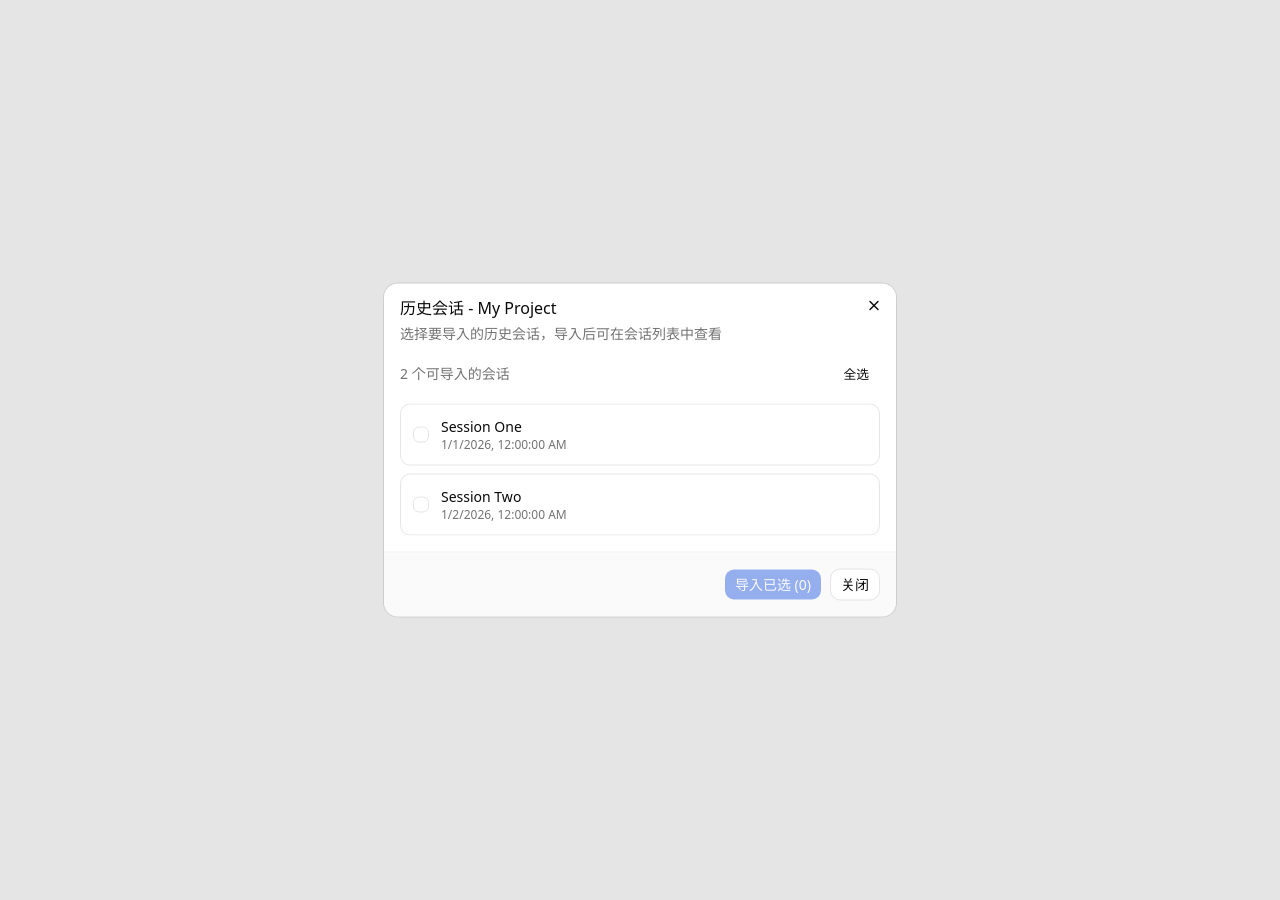
Scenario: HistorySessionDialog › should show progress text during import
Click the button "全选" at [856, 374], box [832,360,880,388]
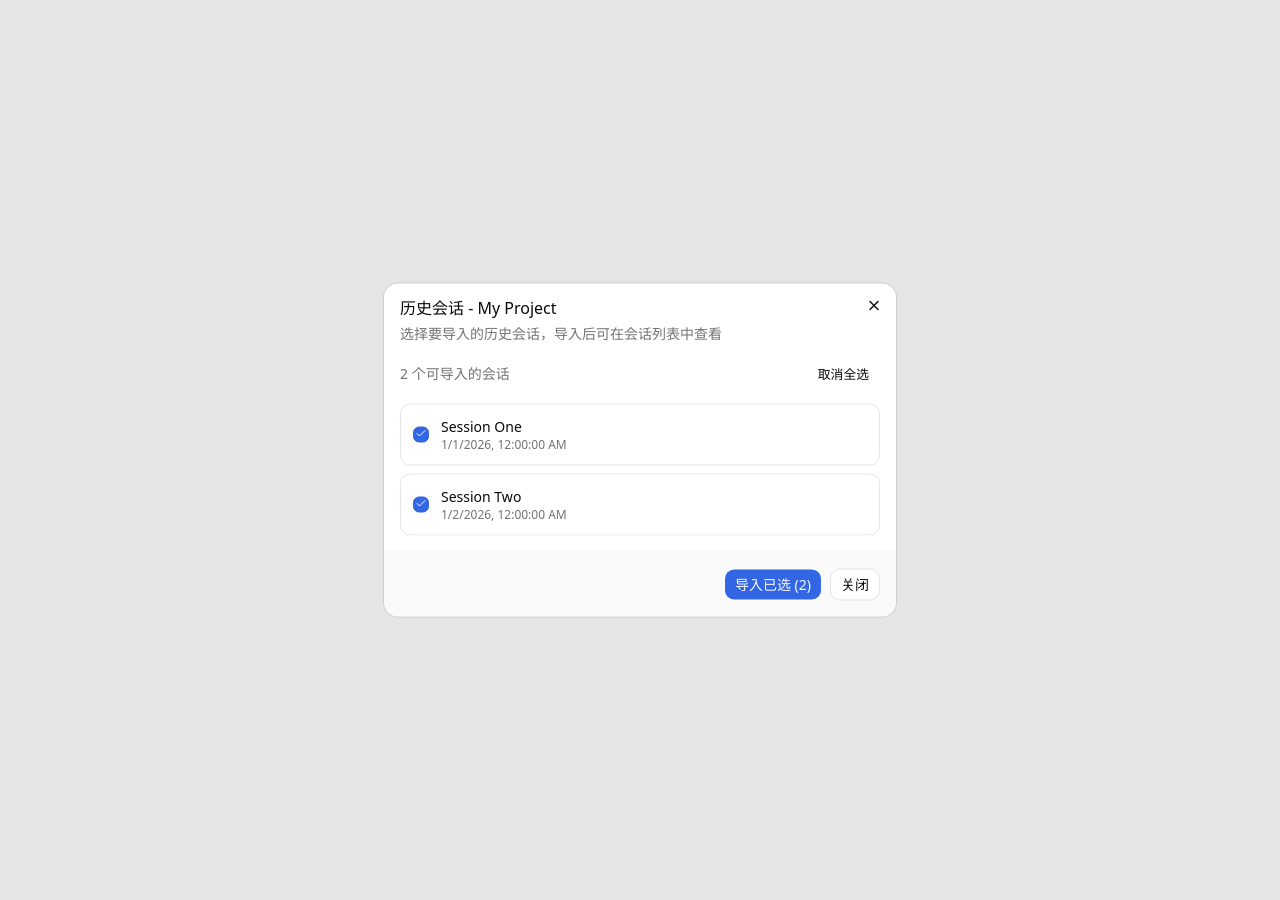
Click the button "导入已选 (2)" at [773, 584], box [724,568,822,600]
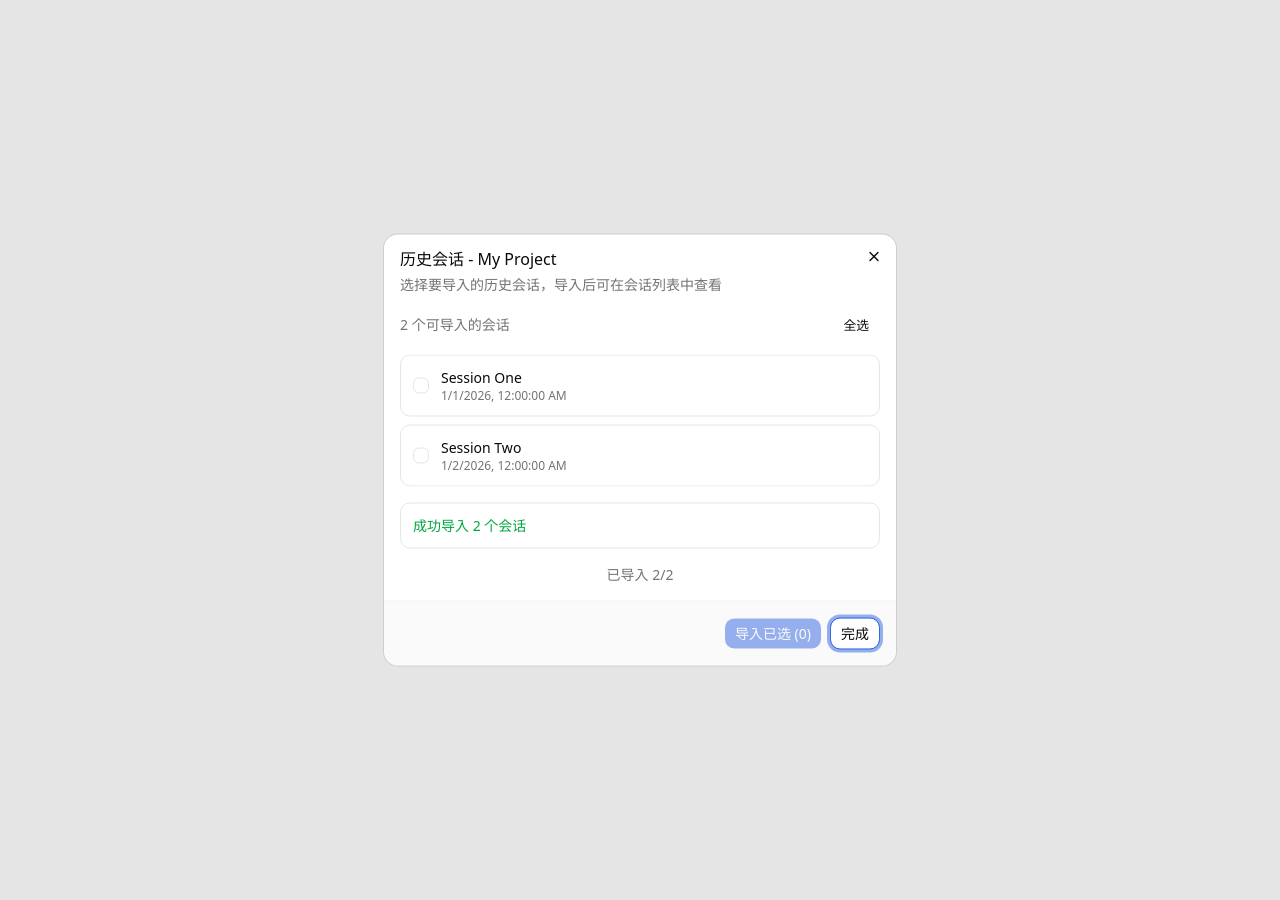
Check: the text "成功导入 2 个会话" is shown, box [413,516,526,534]
